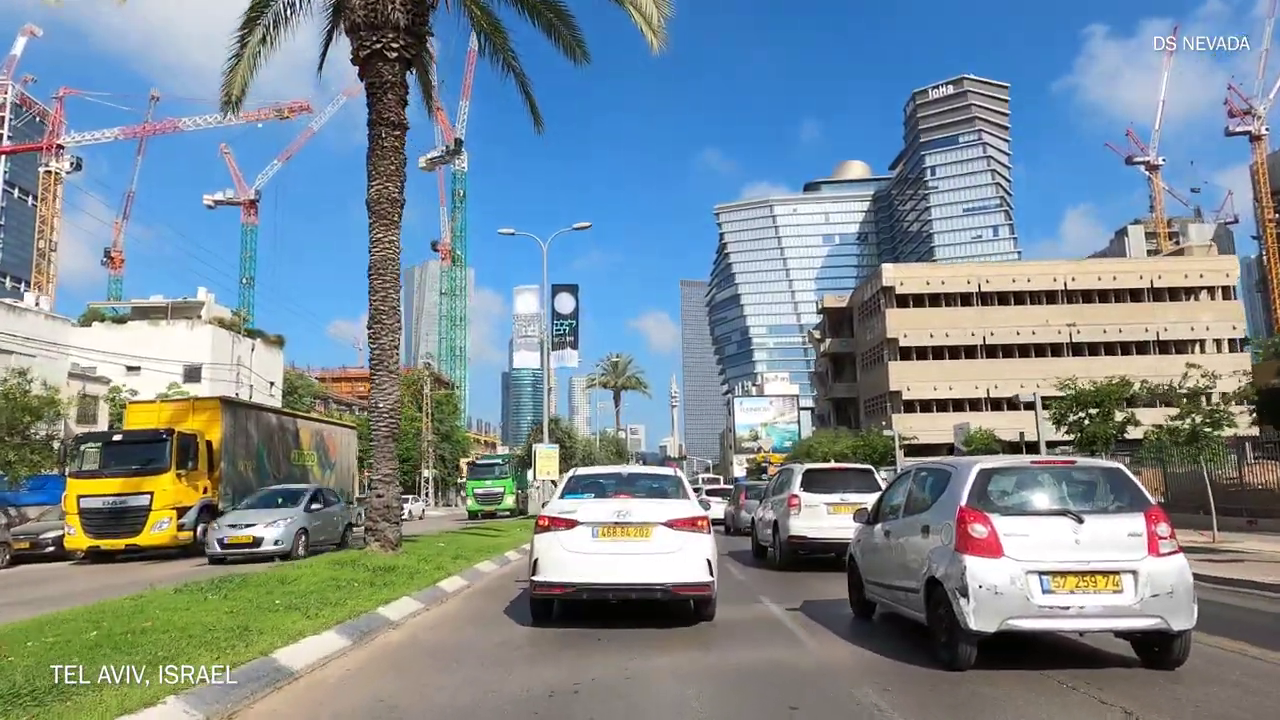licence: (1042, 569, 1120, 593), (225, 536, 249, 543), (220, 538, 242, 545), (221, 536, 243, 542), (216, 537, 237, 542), (15, 538, 28, 544)
